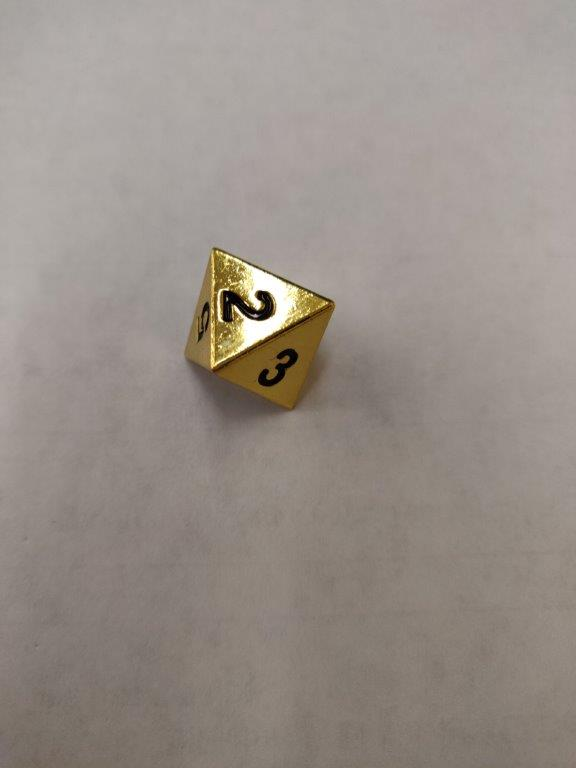d8-2: (182, 245, 336, 411)
